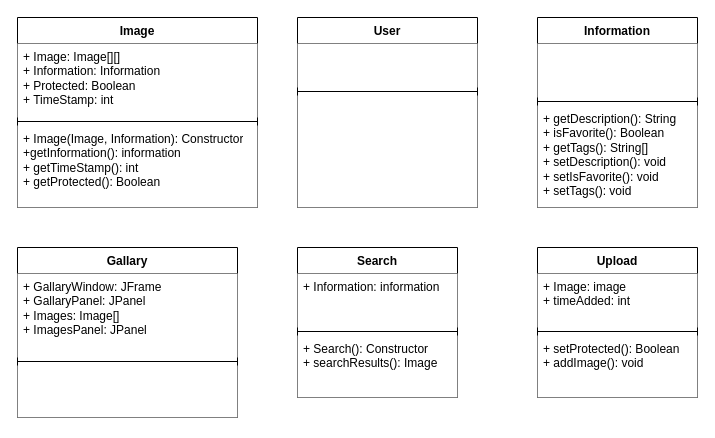
This 715x438 diagram has some shape labels left out. The shapes that lost their labels are listed below. From the top down, each one's centre as x and y in pixels, then its label:
At point 387,65: "+ Password: String + Gallary(): Constructor".
At point 617,70: "+ description: String + favorite: Boolean + tags[]: String".
At point 387,151: "+ Search(): Image + Upload(): void + Edit(Information): void".
At point 127,391: "+ Search(): Image + Upload(): void".
